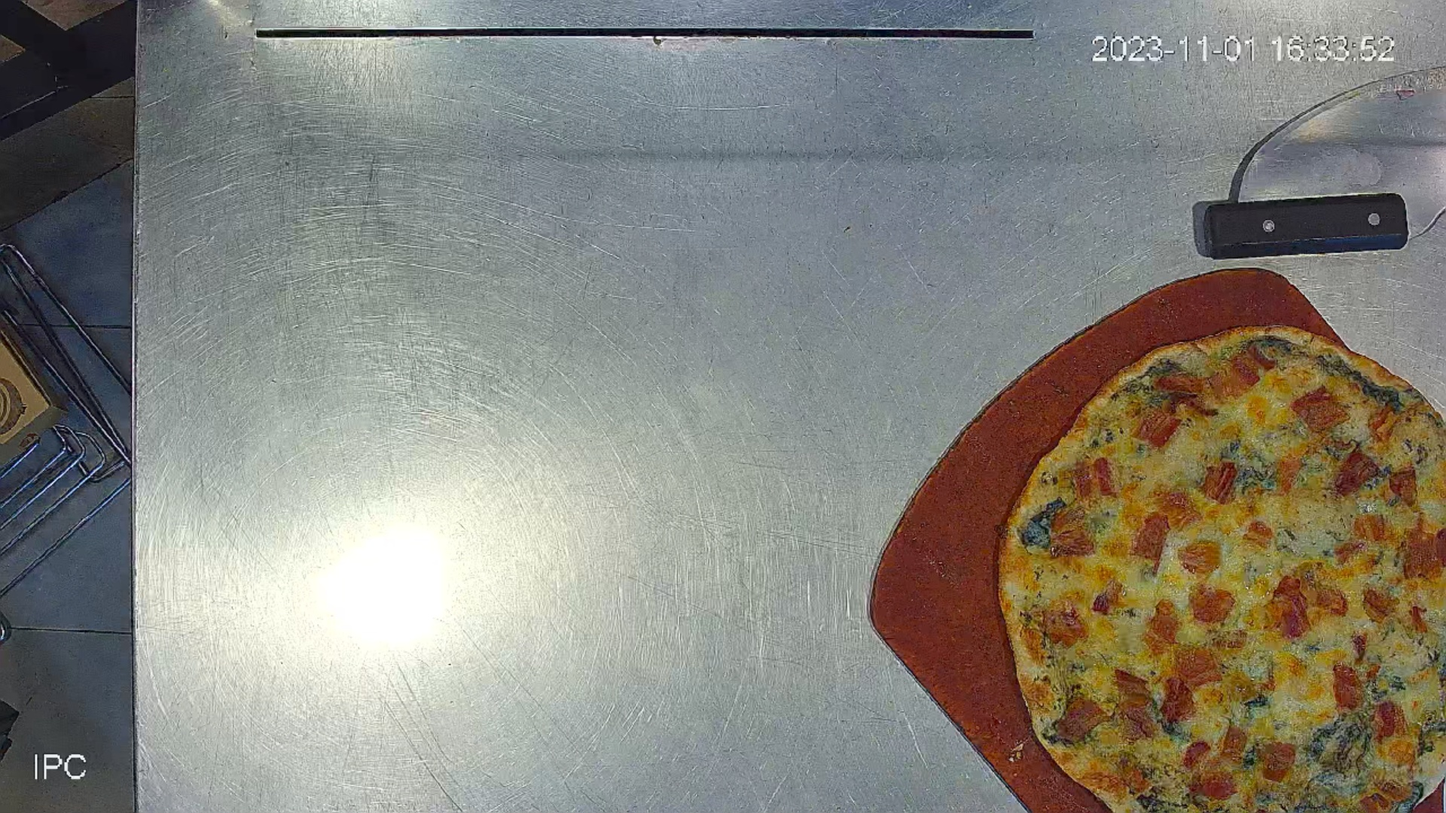pepporoni: (997, 324, 1446, 813)
